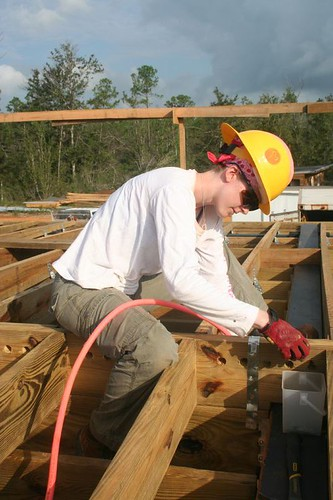person hardhat: (55, 112, 313, 428)
